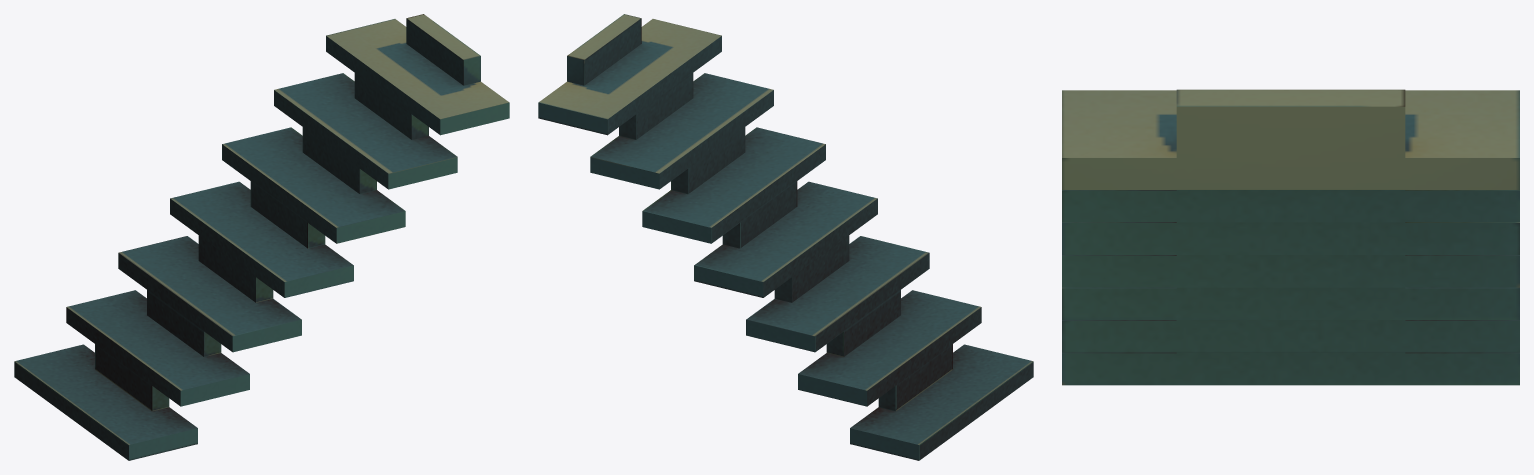
The model's file is attic_stairs.obj.
3 views of the same model, side by side, from view 1: azimuth 30°, elevation 25°; view 2: azimuth 150°, elevation 25°; view 3: azimuth 270°, elevation 25° (orthographic). The views are drawn at different scales.
Visible parts, largest first — view 1: Cube.193_Cube.391; view 2: Cube.193_Cube.391; view 3: Cube.193_Cube.391.
Boxes of the visible parts, x1=… form: Cube.193_Cube.391: x1=14, y1=14, x2=509, y2=460; Cube.193_Cube.391: x1=538, y1=14, x2=1033, y2=460; Cube.193_Cube.391: x1=1062, y1=89, x2=1519, y2=385.
Size of the model in its own units: 1.56 by 1.14 by 0.8127.
